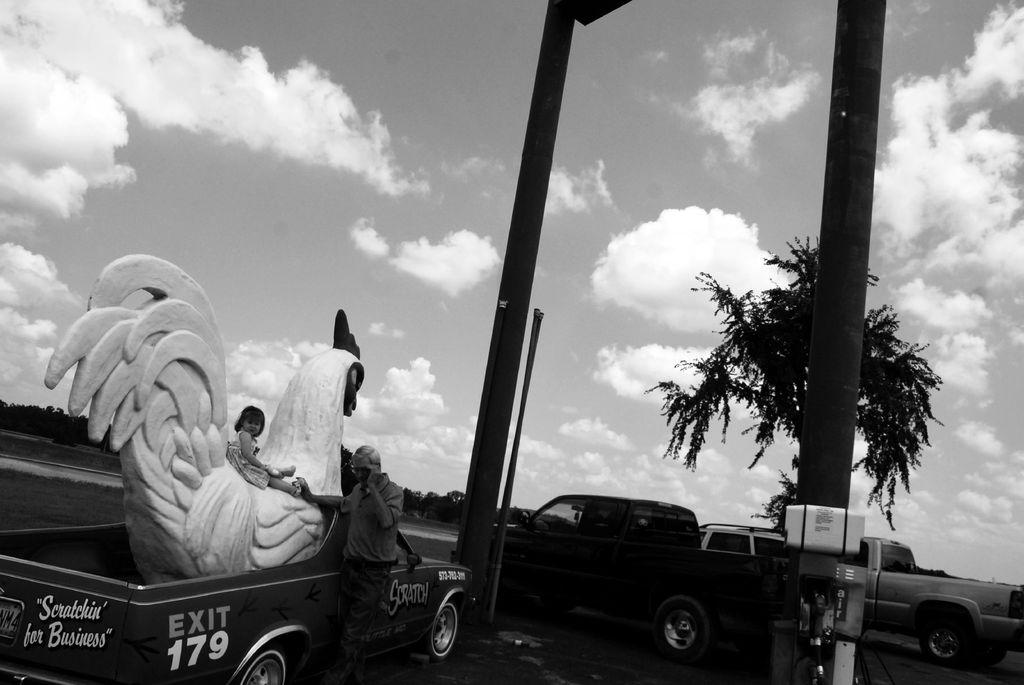cars: (464, 494, 841, 656), (697, 521, 830, 634)
